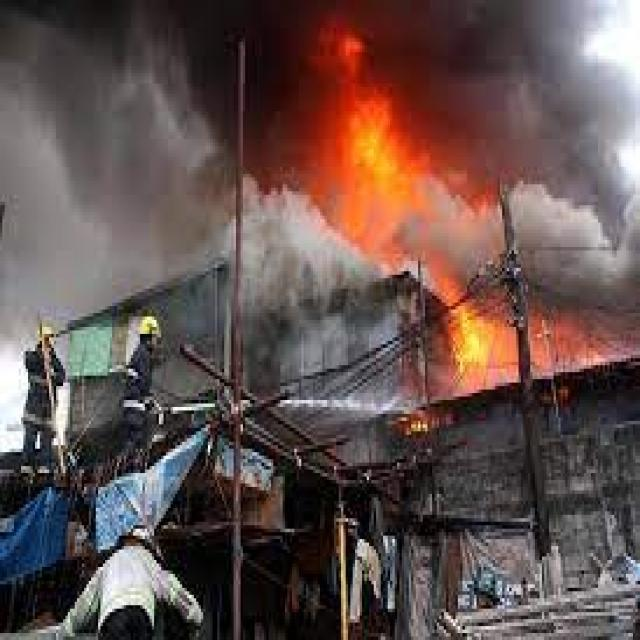Fire: (340, 34, 460, 260), (448, 292, 494, 386)
Smoke: (1, 1, 236, 262), (462, 17, 640, 275), (250, 191, 337, 338)
